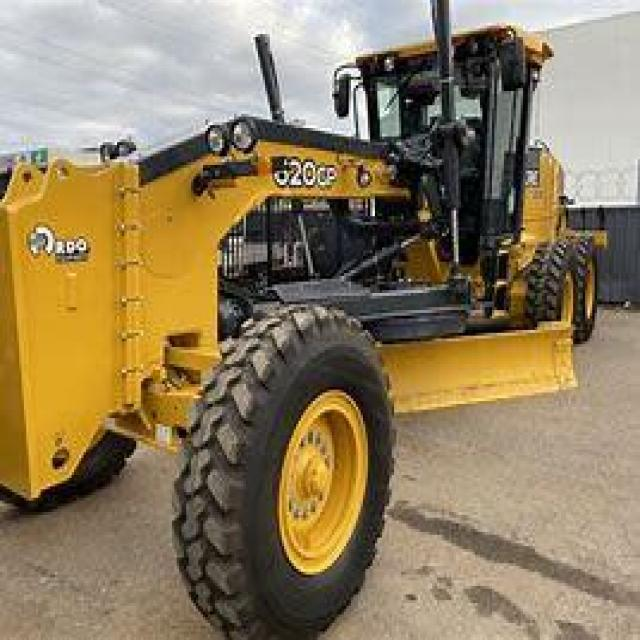Grader: (2, 17, 602, 632)
